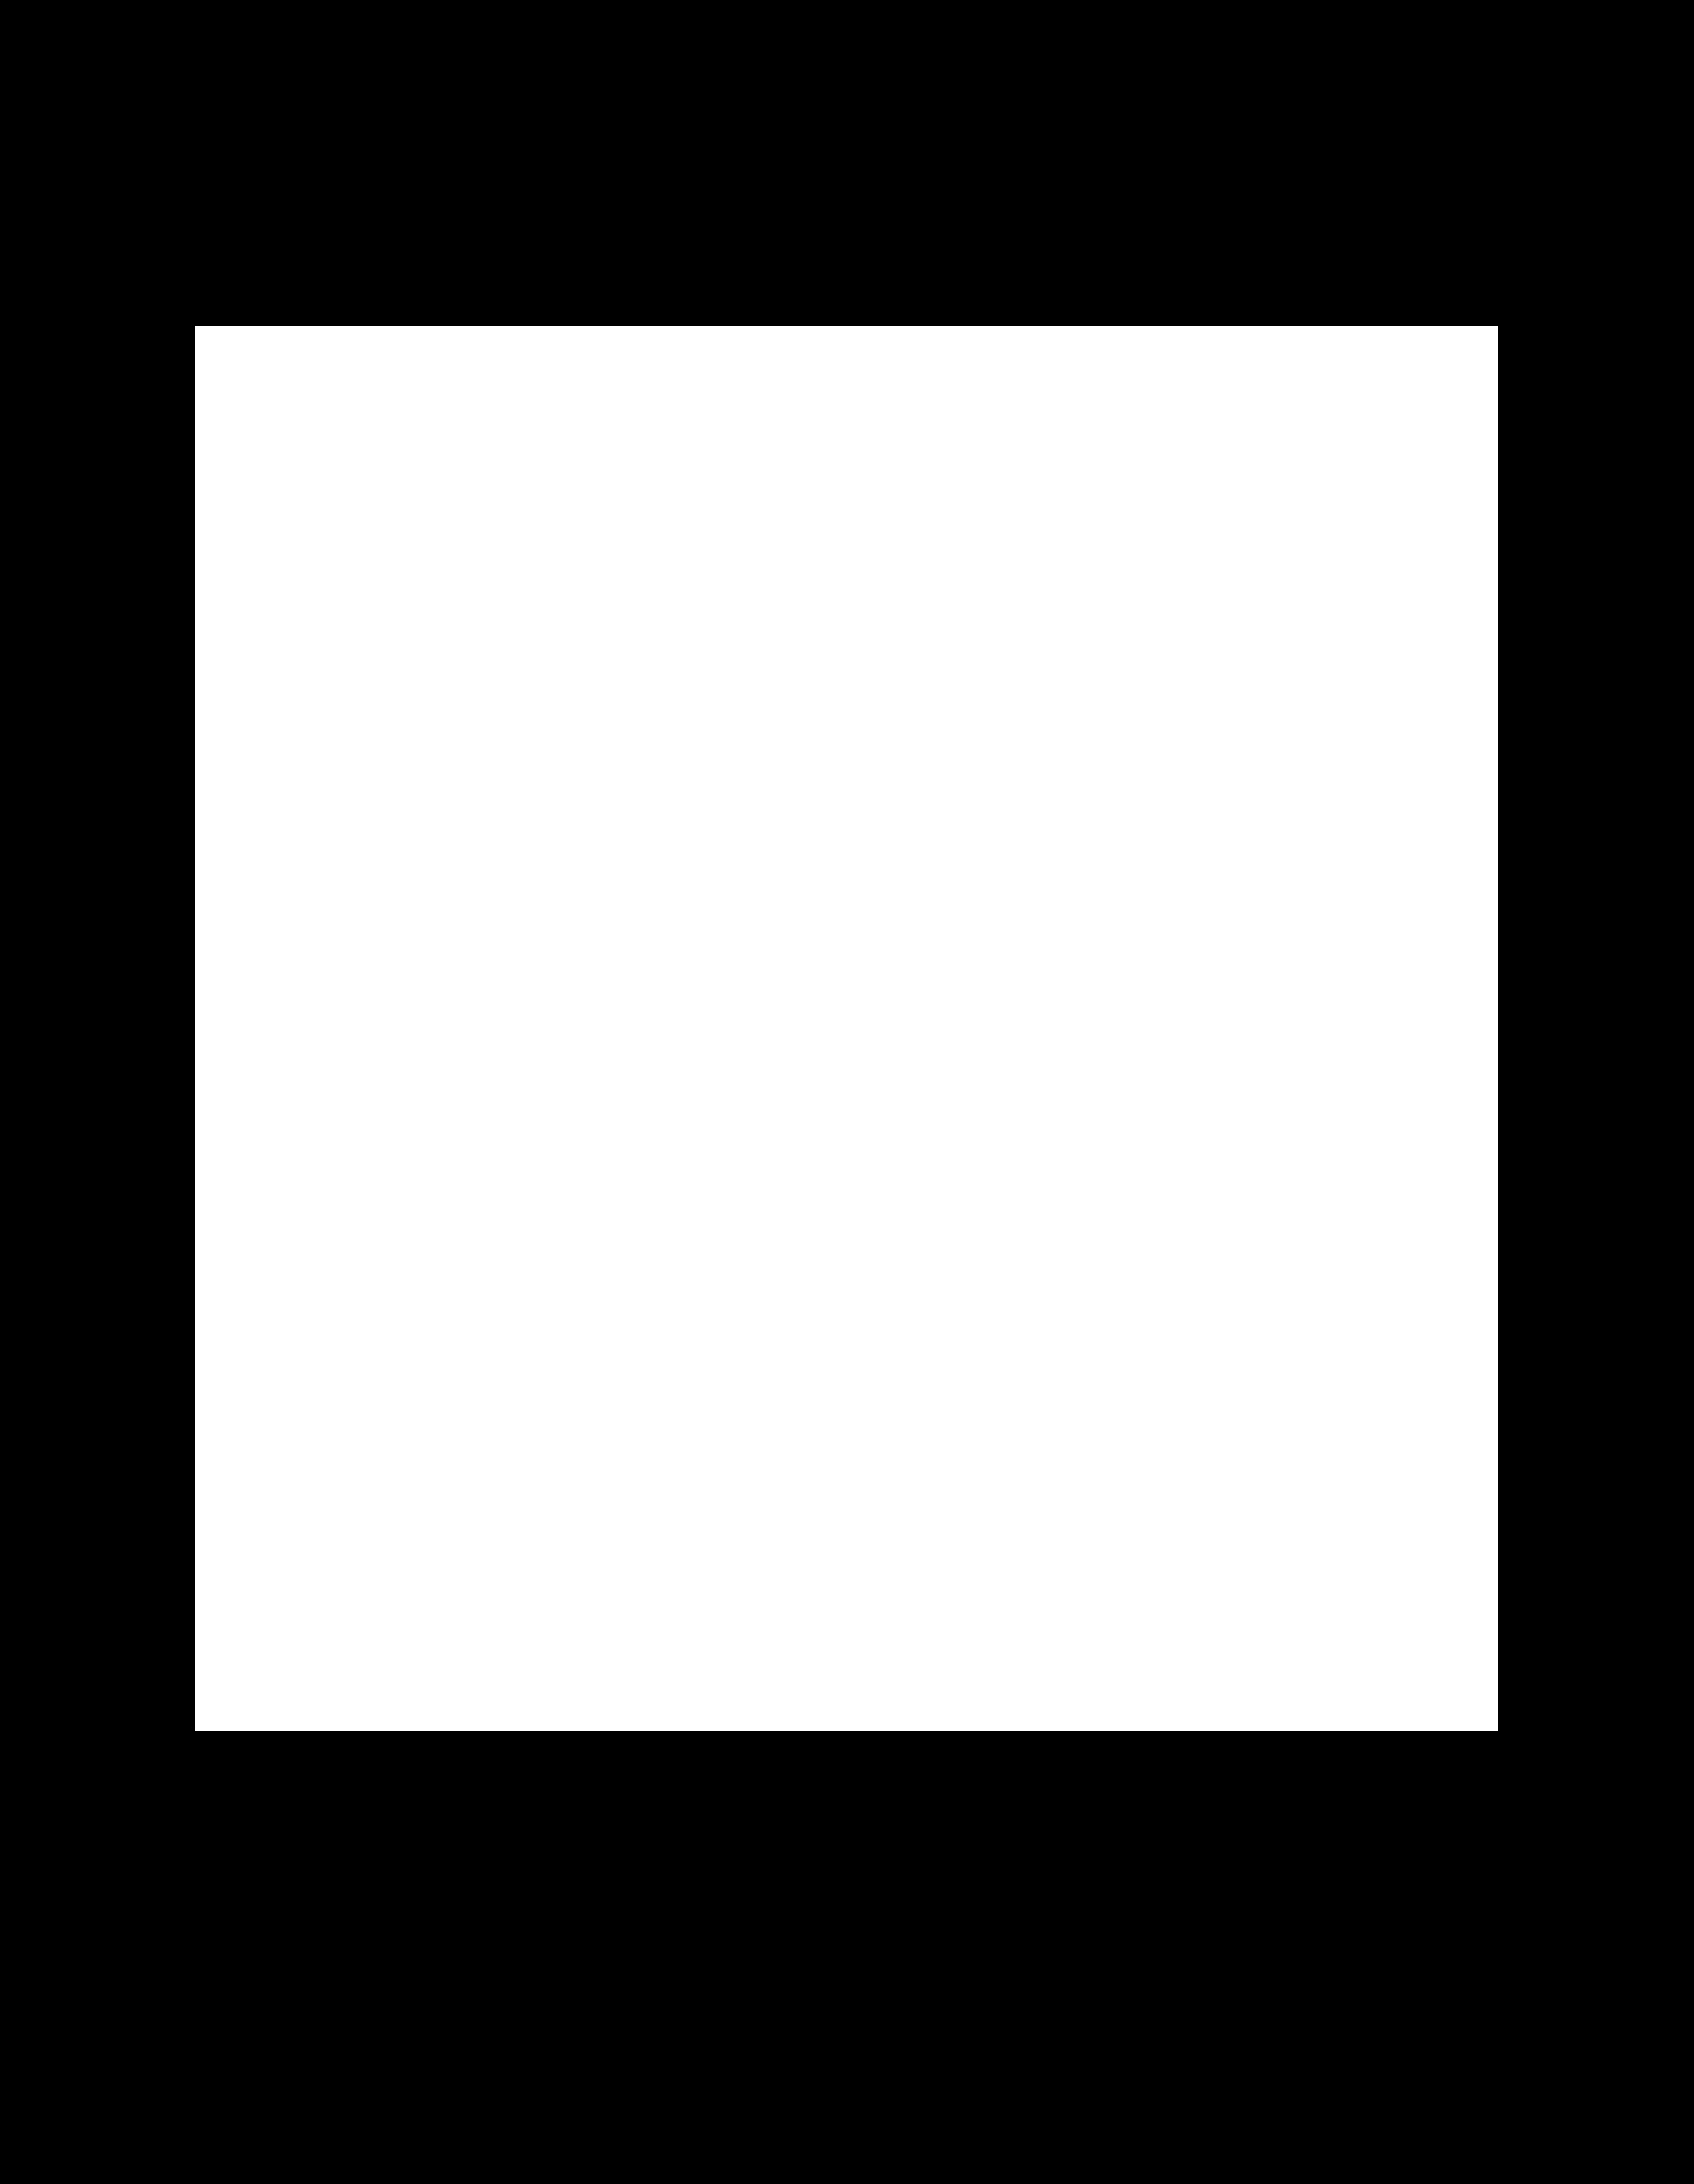table: (195, 326, 1497, 1730)
